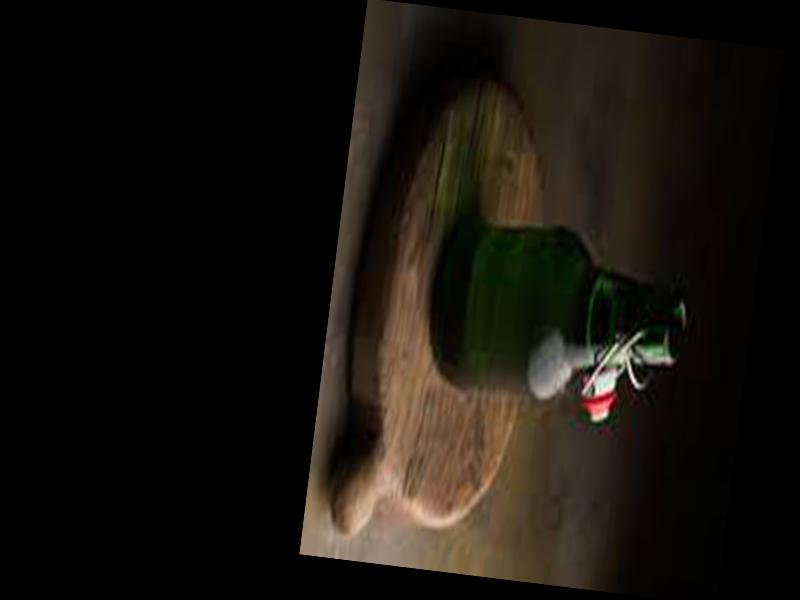Beer: (427, 220, 698, 414)
